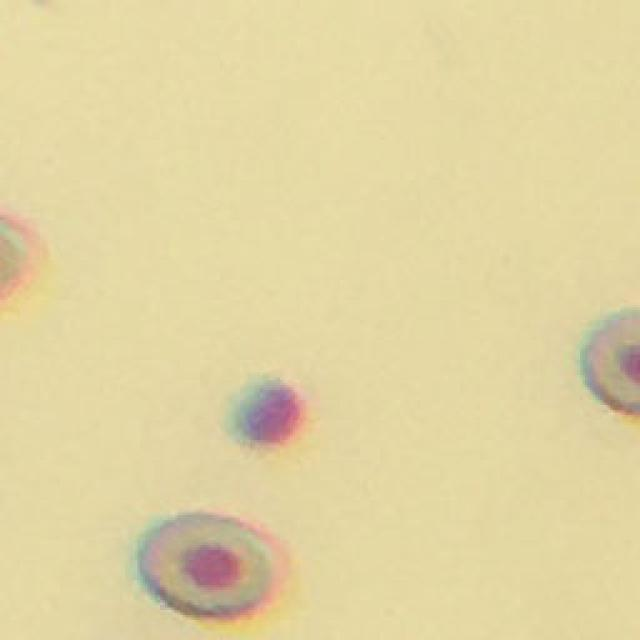RBC: (139, 514, 286, 621), (579, 309, 640, 416)
WBC: (235, 380, 302, 444)
